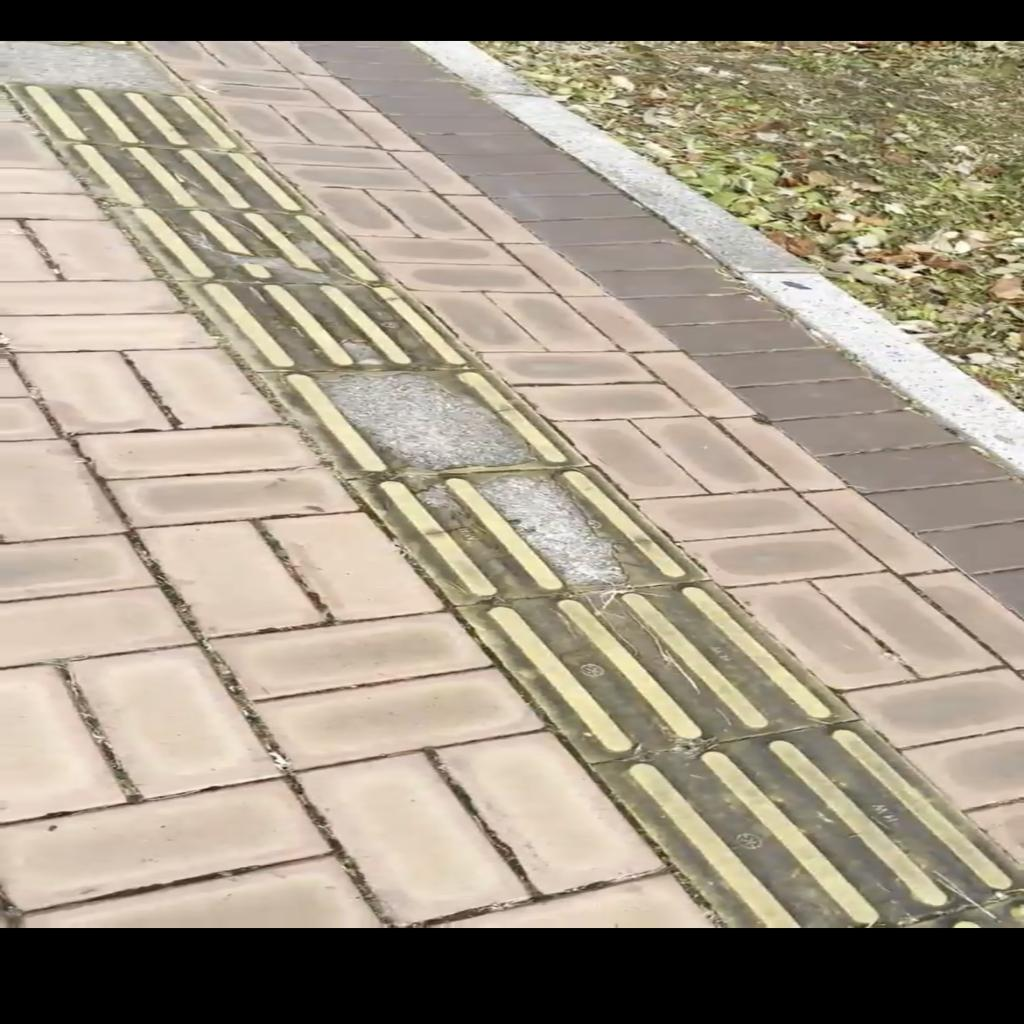Straight block broken: (347, 446, 707, 613), (254, 355, 590, 483), (108, 209, 393, 285)
Straight block normal: (460, 546, 854, 778), (179, 283, 486, 374), (47, 141, 323, 221)
